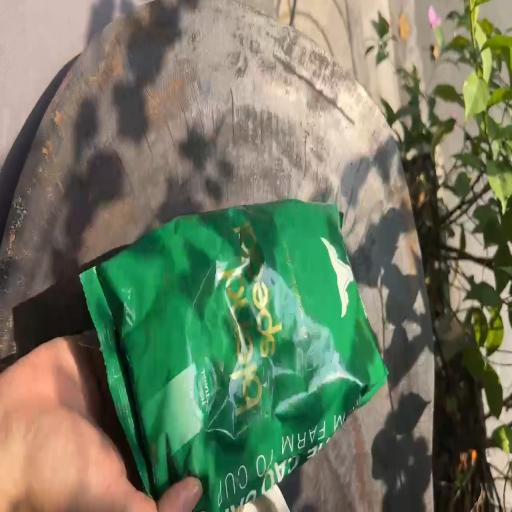cafe_xay: (80, 201, 387, 511)
